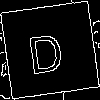D: (25, 25, 66, 75)
